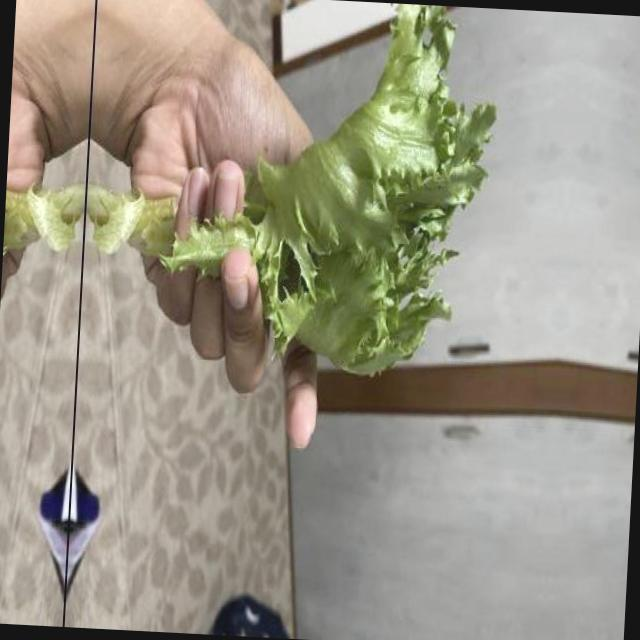healthy: (85, 0, 511, 388), (0, 0, 89, 366), (621, 16, 640, 395)
